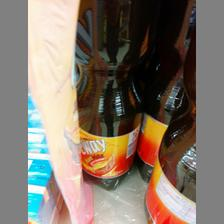Soda: (74, 0, 150, 191), (142, 21, 196, 222)
